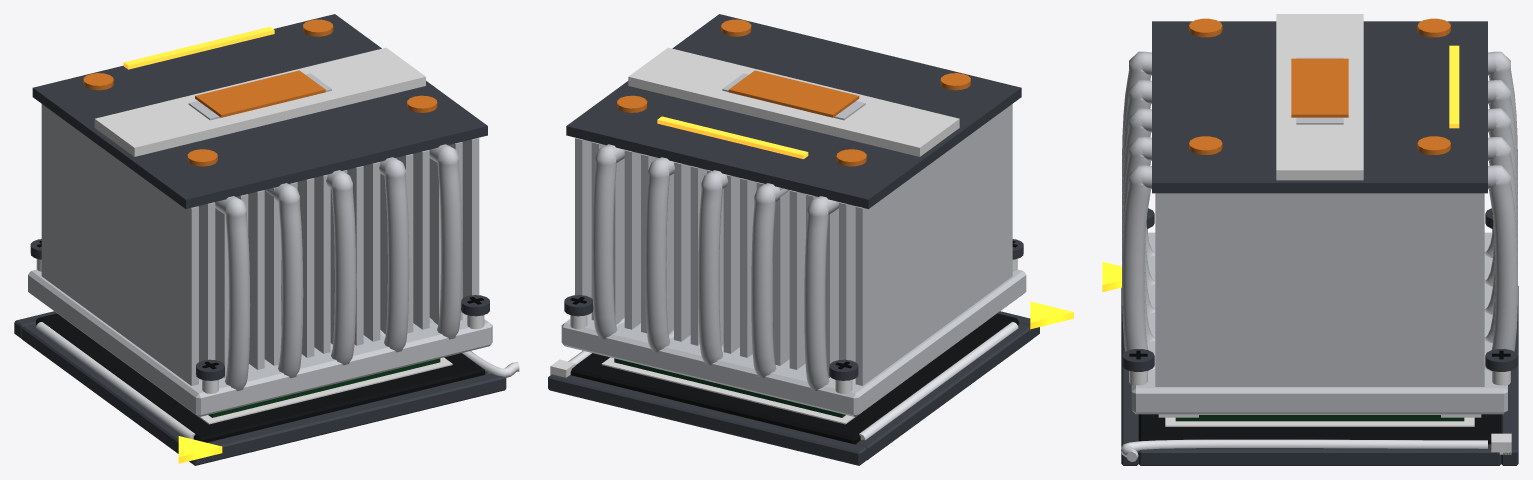
The model's file is hwm_cpu_epyc_128c.glb.
3 renders of one model, left to right at view 1: azimuth 30°, elevation 25°; view 2: azimuth 150°, elevation 25°; view 3: azimuth 270°, elevation 25°, orthographic. The views are drawn at different scales.
Parts seen in each view (by area): view 1: Cooler, Socket, CPU, Screw_3, Screw_1, Lever; view 2: Cooler, Socket, CPU, Screw_0, Screw_2; view 3: Cooler, Socket, Lever, CPU, Screw_2, Screw_3, Frame.
Part boxes in pixels (box(x1,y1,x2,y2)): Cooler: box(28, 14, 492, 416); Socket: box(14, 311, 506, 465); CPU: box(208, 358, 440, 417); Screw_3: box(461, 295, 489, 329); Screw_1: box(196, 359, 224, 393); Lever: box(462, 351, 519, 377); Cooler: box(561, 14, 1026, 416); Socket: box(548, 301, 1073, 465); CPU: box(614, 358, 845, 417); Screw_0: box(829, 359, 858, 393); Screw_2: box(564, 295, 593, 329); Cooler: box(1122, 14, 1517, 414); Socket: box(1102, 261, 1518, 465); Lever: box(1121, 439, 1487, 461); CPU: box(1175, 415, 1464, 421); Screw_2: box(1485, 349, 1517, 385); Screw_3: box(1122, 349, 1154, 385); Frame: box(1158, 414, 1481, 417).
Bounding box in the file's own units: 0.1338 × 0.098 × 0.1239.
